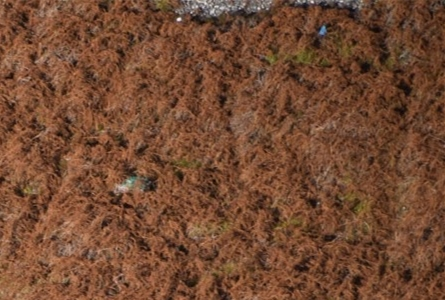white_in_green: (100, 151, 168, 220), (303, 13, 340, 43), (163, 7, 194, 33)
